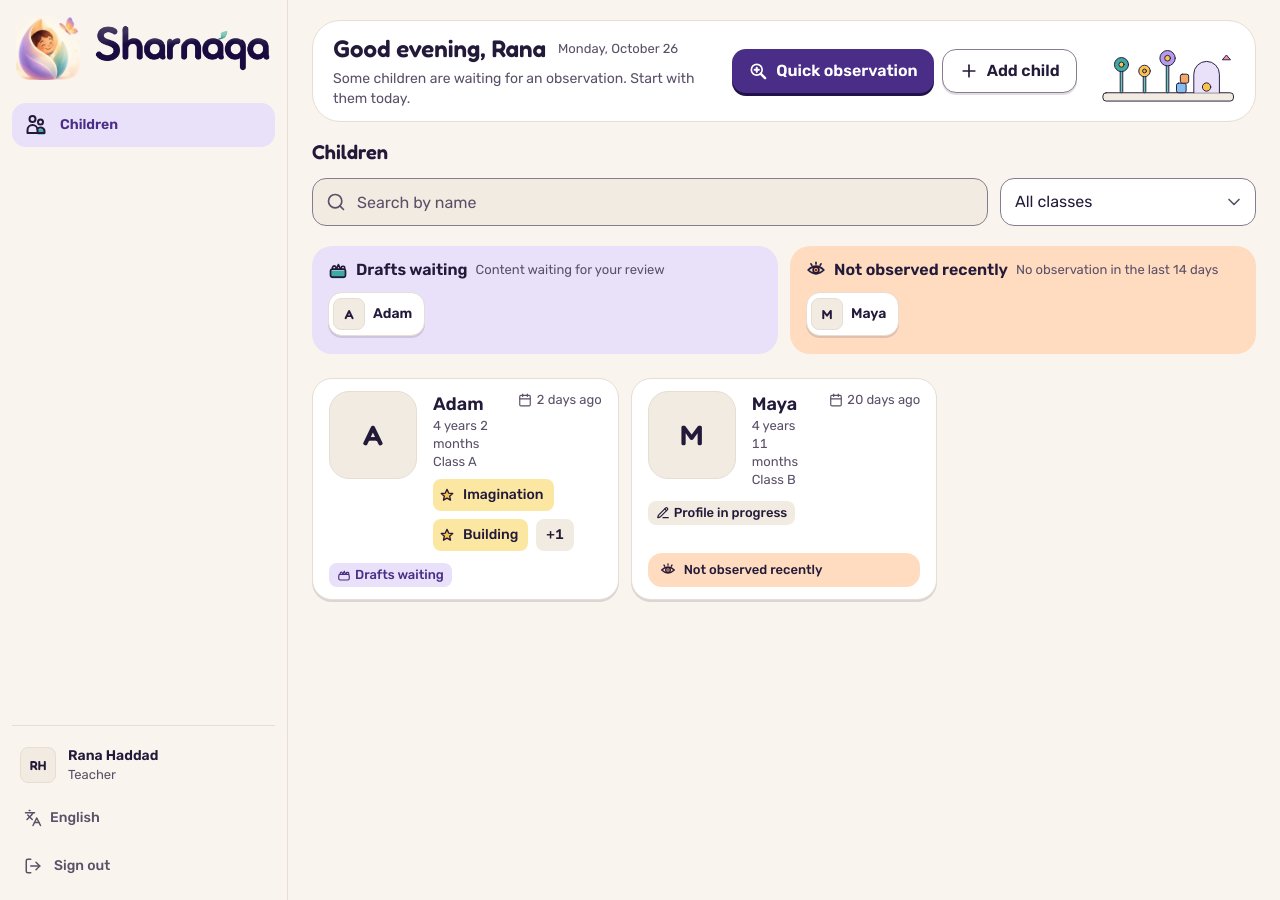
Test case: ChildListPage › shows cards, attention strips, the add-child link and filters by search and class
The image size is (1280, 900).
Expected: the text "Adam" next to "2 days ago" is shown, 433,393 -> 484,415
Expected: the text "Maya" next to "20 days ago" is shown, 752,393 -> 797,415
Type "may" into the search field named "Search children" at (650, 202), box 312,178 -> 988,226
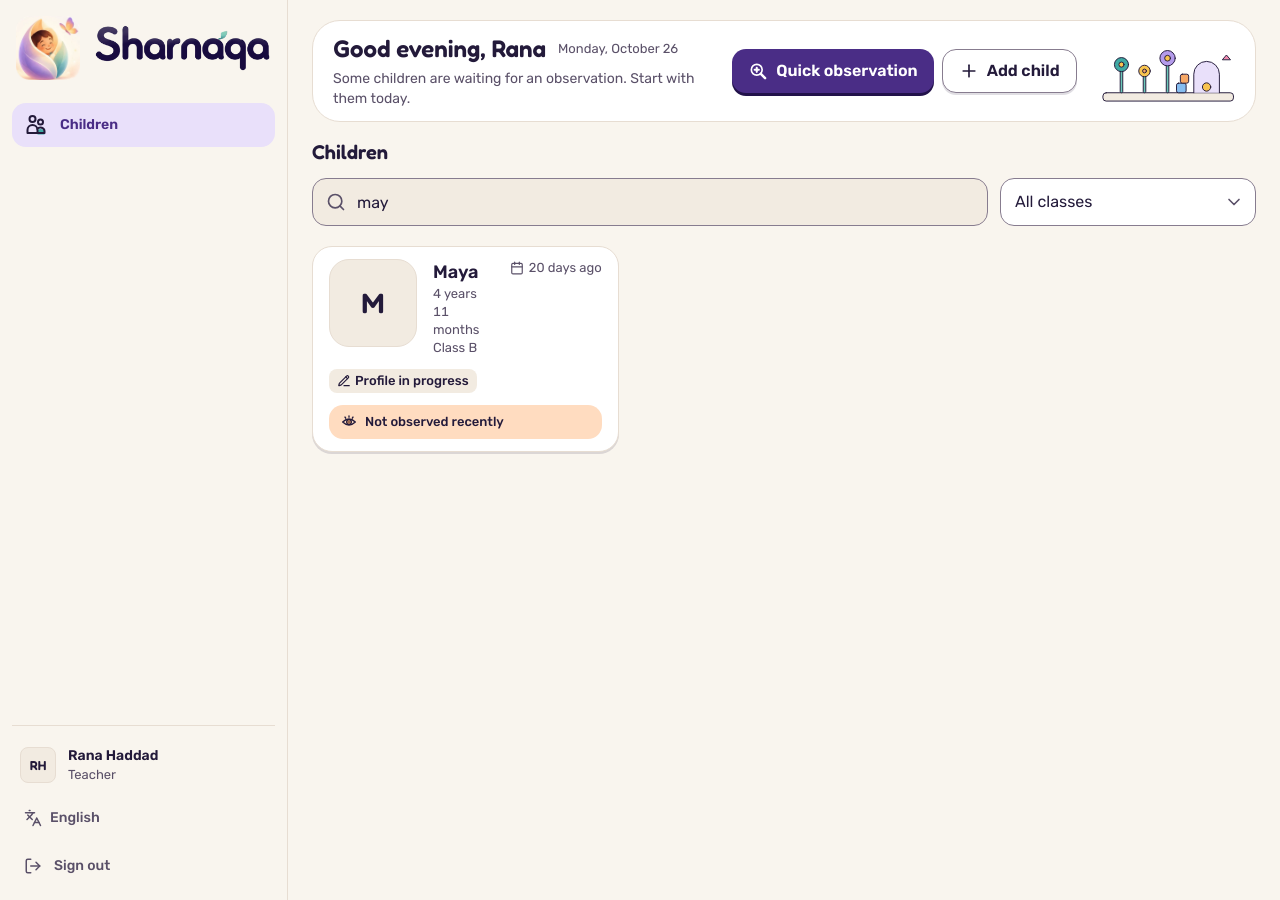
Expected: the text "Maya" is shown, 433,261 -> 478,283
Expected: the link "Adam" is gone
Clear the search field named "Search children" at (650, 202), box 312,178 -> 988,226
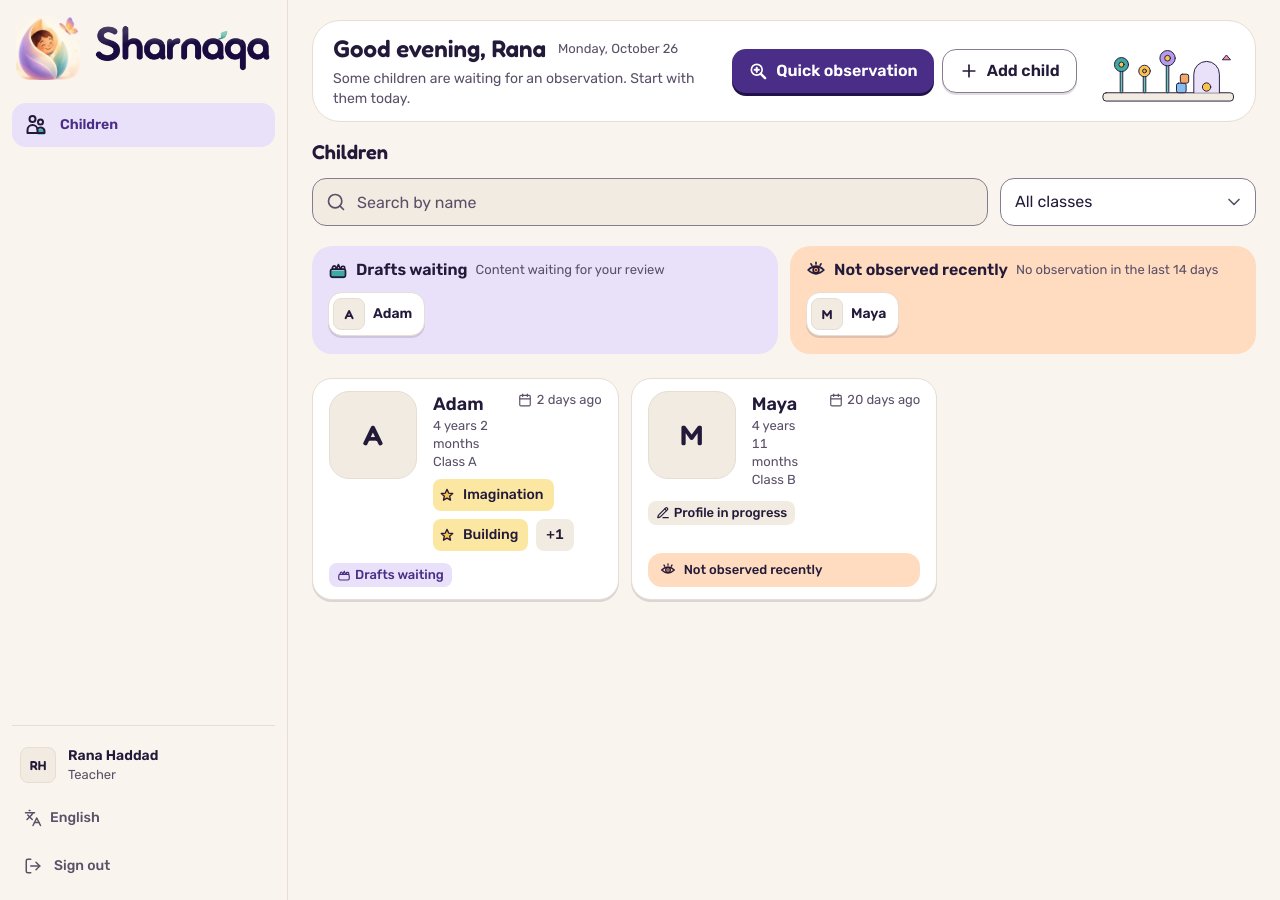
Select "Class A · Sunflower KG" in the dropdown named "Class" at (1128, 202), box 1000,178 -> 1256,226
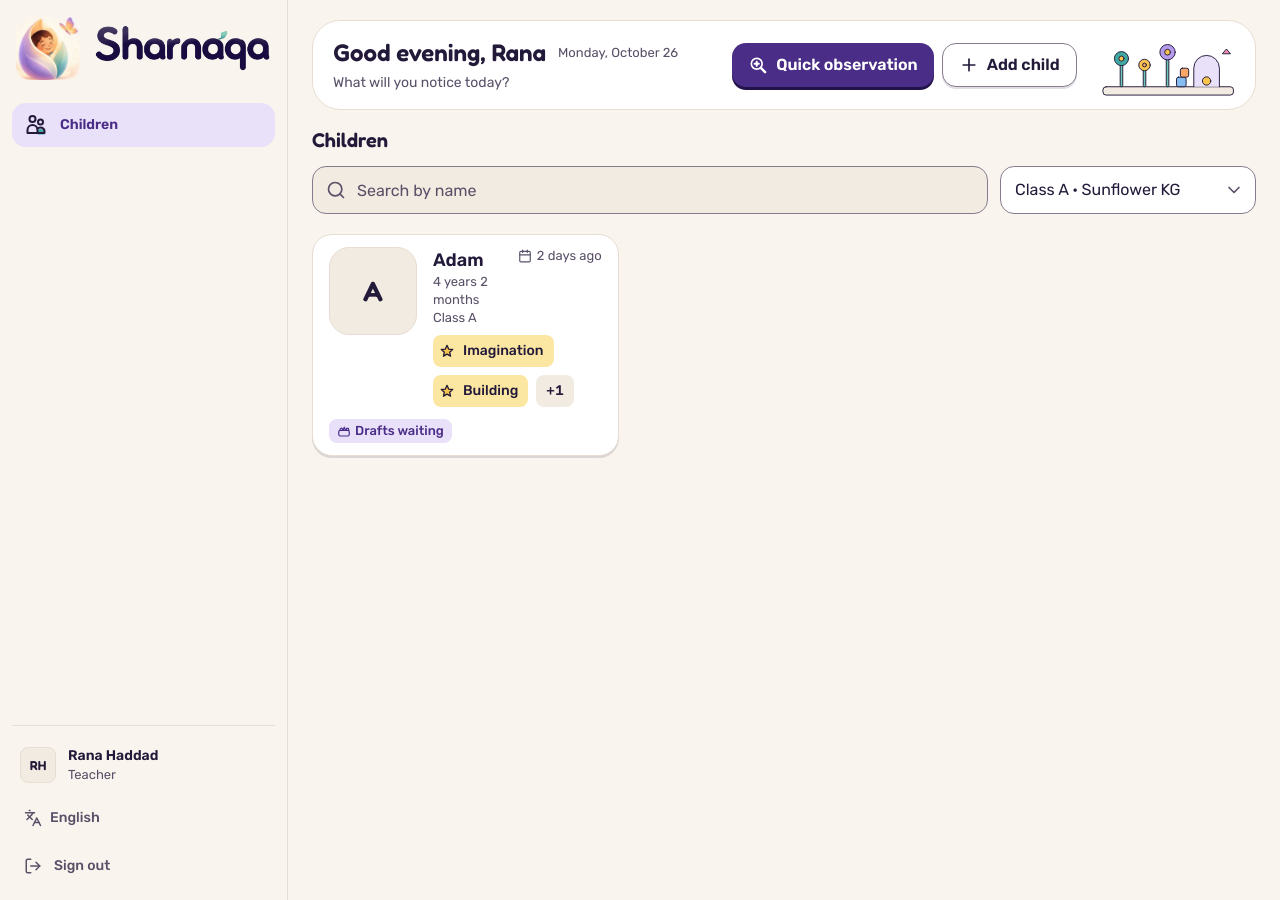
Expected: the text "Adam" is shown, 433,249 -> 484,271
Expected: the link "Maya" is gone
